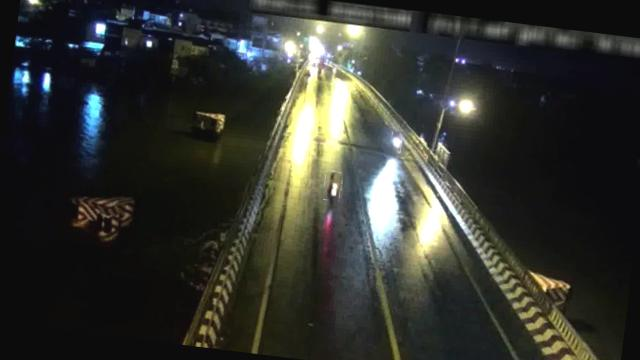Bike: (320, 169, 342, 201), (388, 128, 402, 154)
